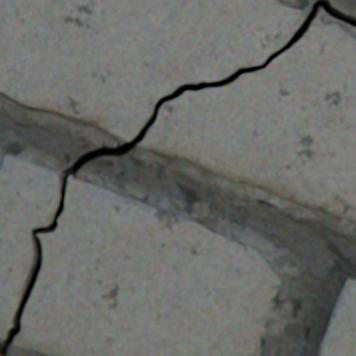brick: (317, 277, 355, 355)
broken_brick: (12, 175, 281, 355), (138, 16, 355, 223), (0, 0, 305, 141), (0, 154, 64, 339)
crack: (0, 0, 355, 355)
